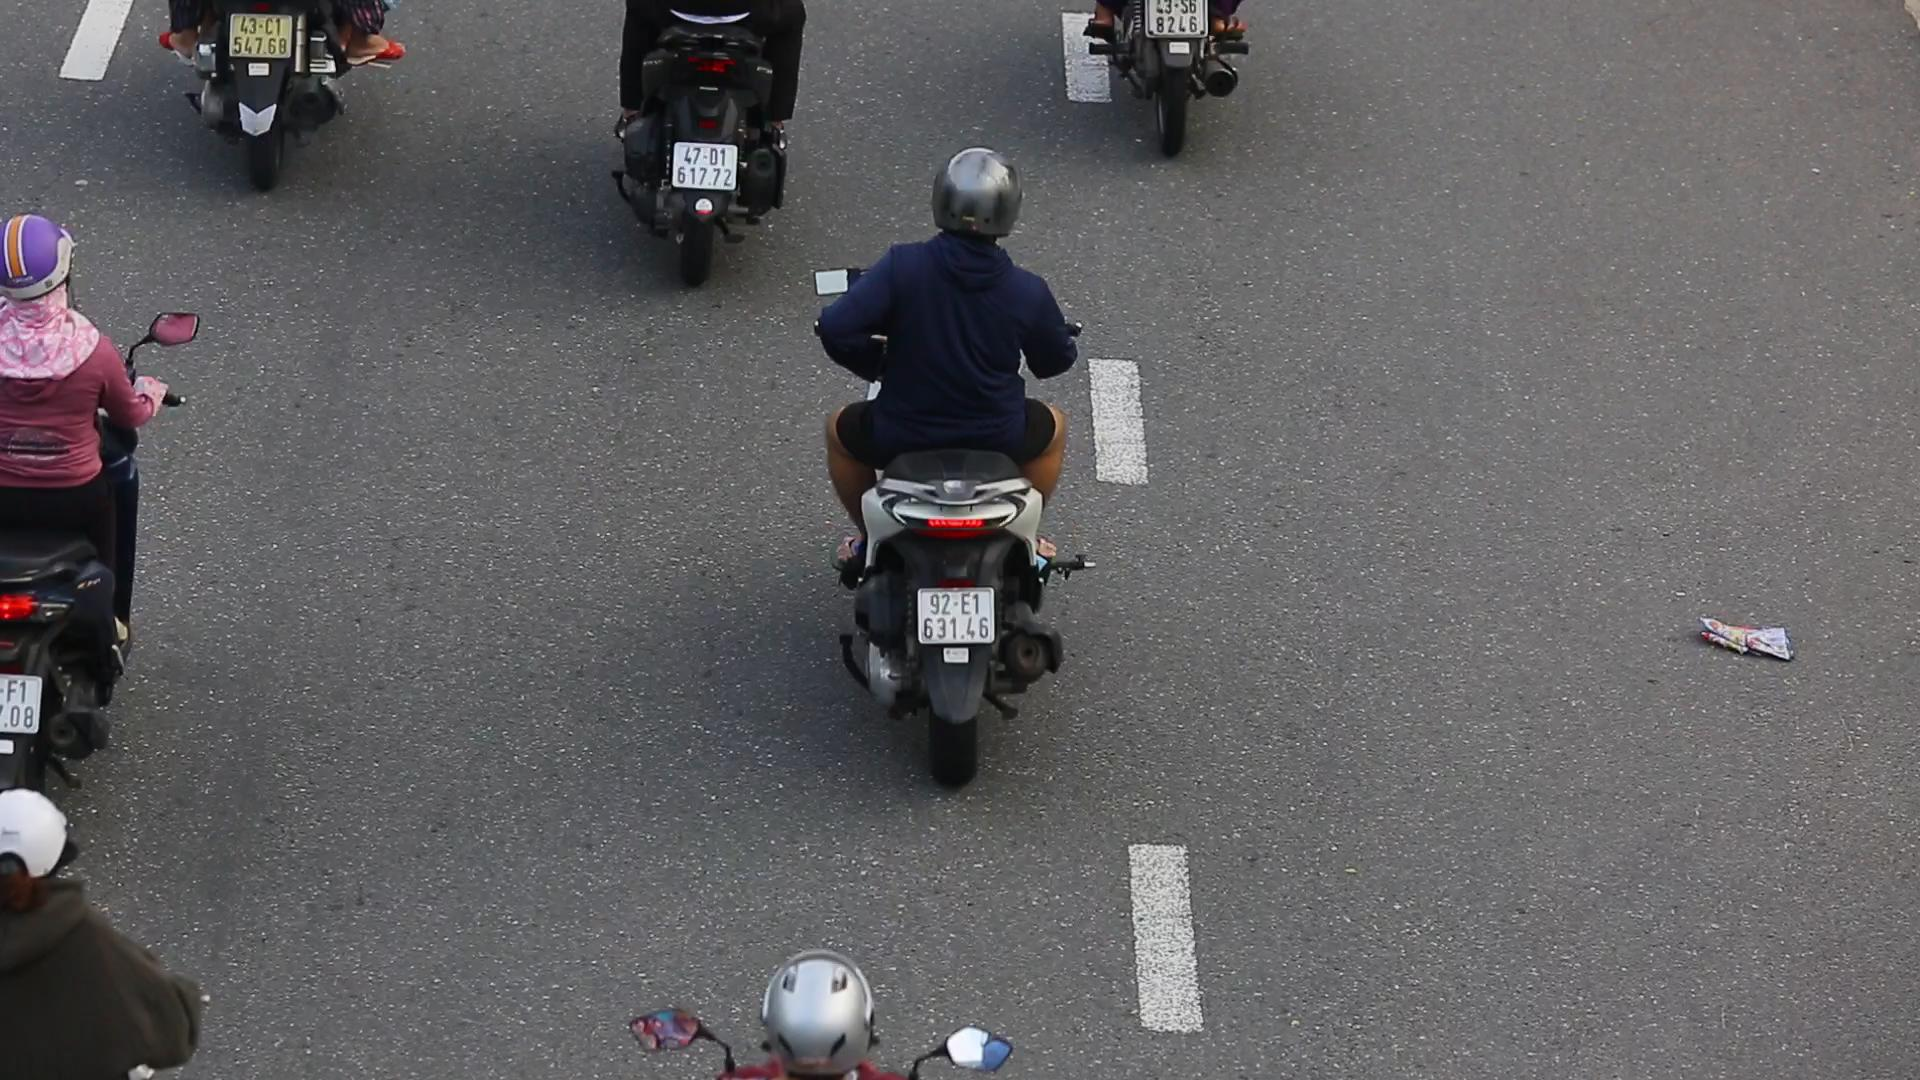motobike: (819, 145, 1091, 793)
